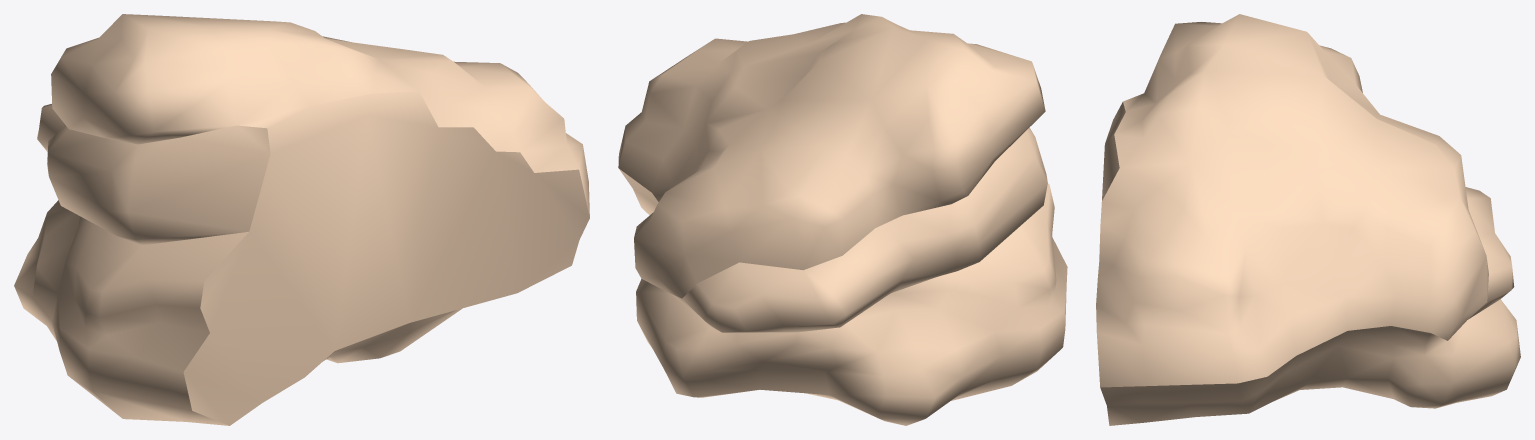
File: Rock_007.FBX
3 renders of one model, left to right at view 1: azimuth 30°, elevation 25°; view 2: azimuth 150°, elevation 25°; view 3: azimuth 270°, elevation 25°, orthographic. The views are drawn at different scales.
Visible parts, largest first — view 1: Rock_007_LOD0; view 2: Rock_007_LOD0; view 3: Rock_007_LOD0.
Part boxes in pixels (left/top/right/bottom): Rock_007_LOD0: left=14, top=14, right=589, bottom=425; Rock_007_LOD0: left=618, top=14, right=1067, bottom=425; Rock_007_LOD0: left=1096, top=14, right=1520, bottom=425.
Size of the model in its own units: 192 by 160 by 140.
